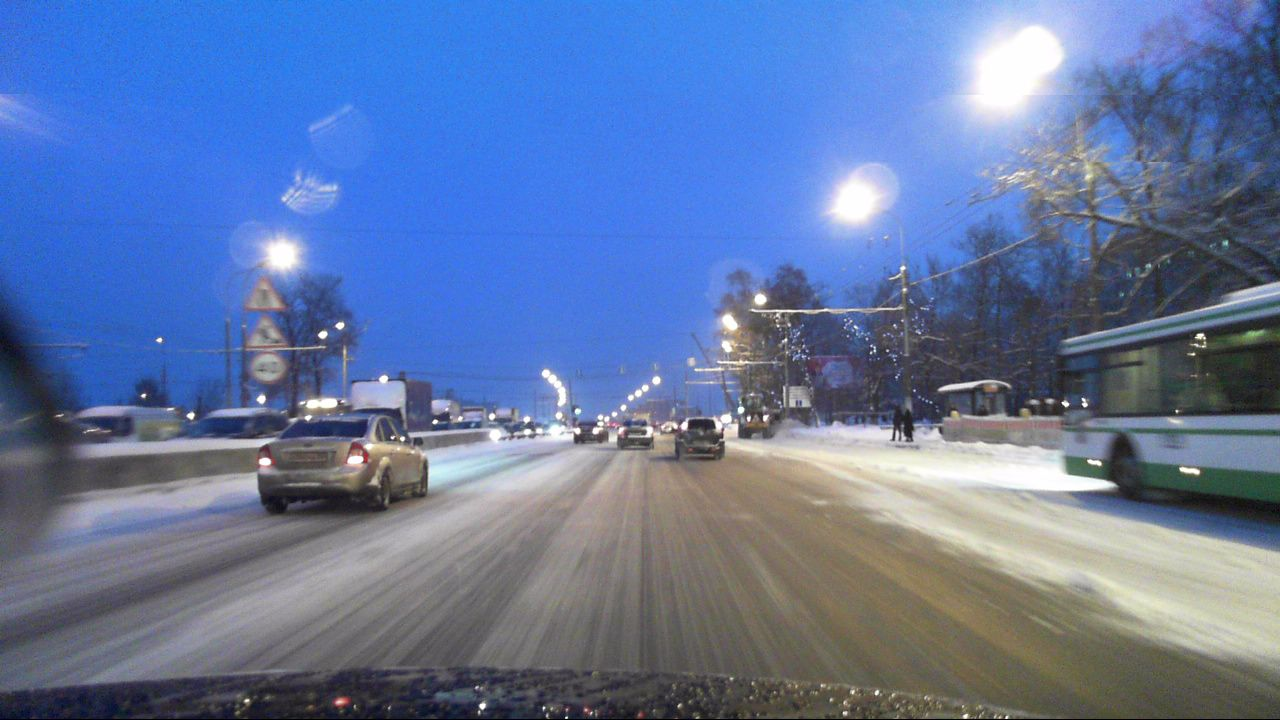speed_warning_40: (250, 351, 286, 385)
